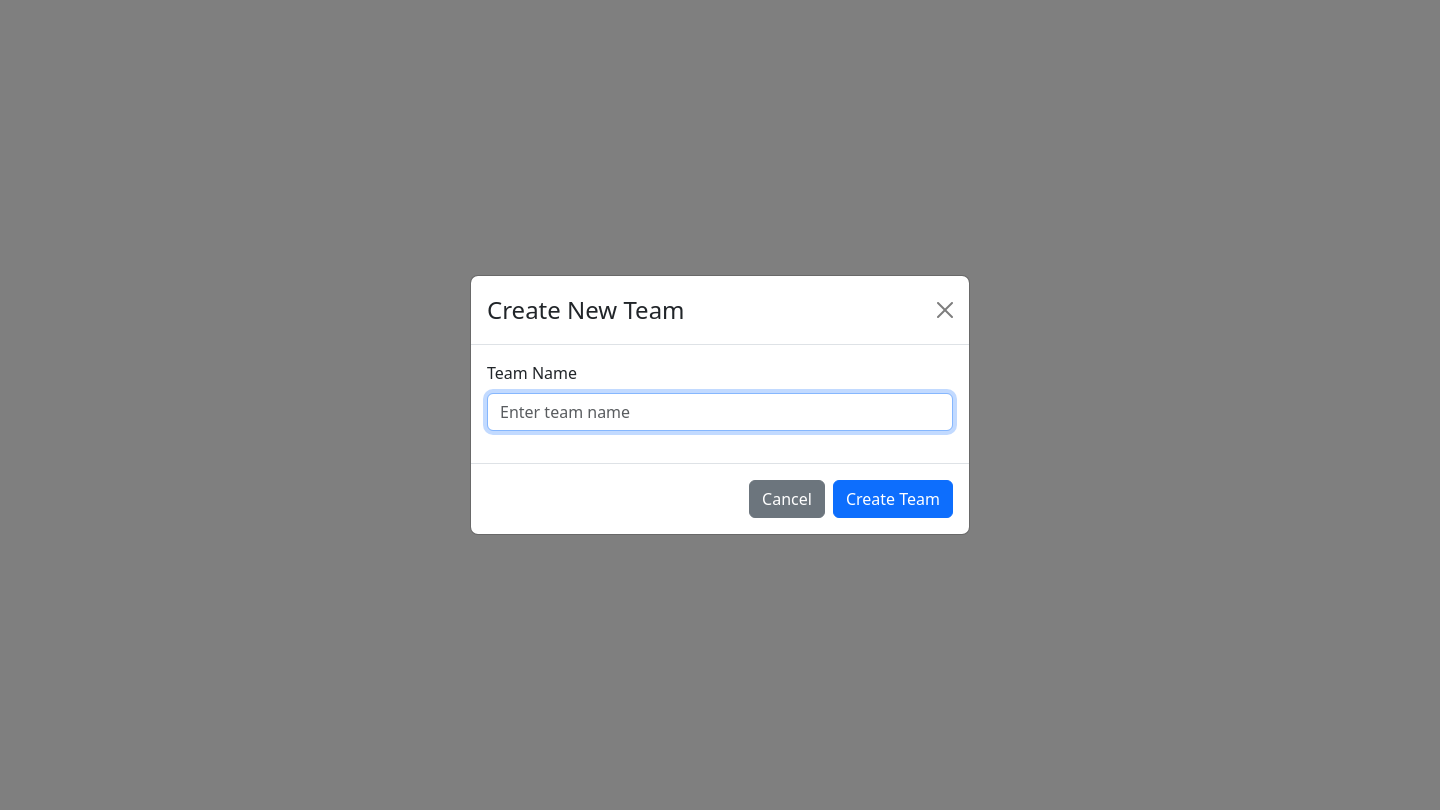
CreateTeamModal › should handle creation error
Type "New Team" into the field with placeholder "Enter team name".
click(720, 412); type("New Team")  # box [487,393,953,431]
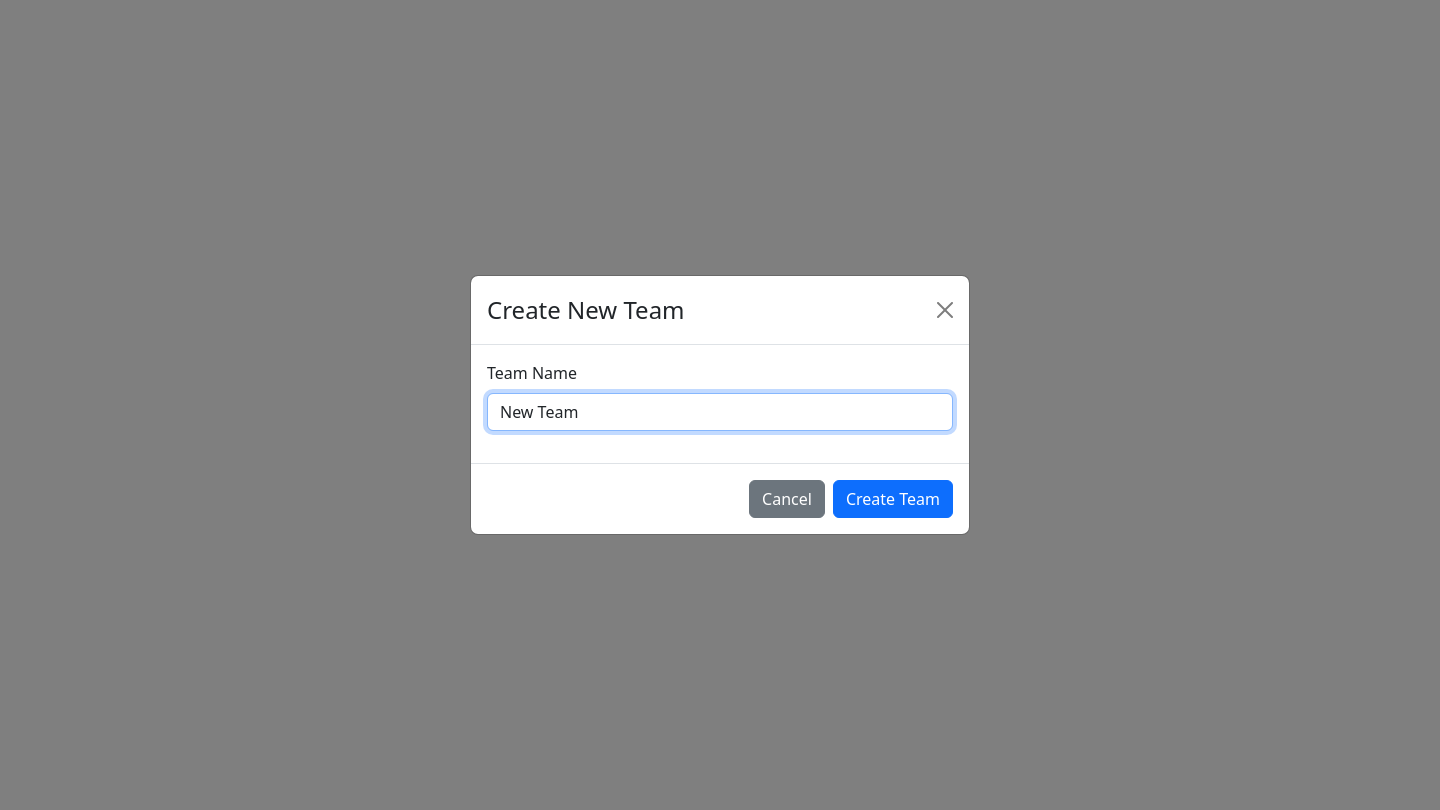
Click the button "Create Team".
click(893, 499)  # box [833,480,953,518]
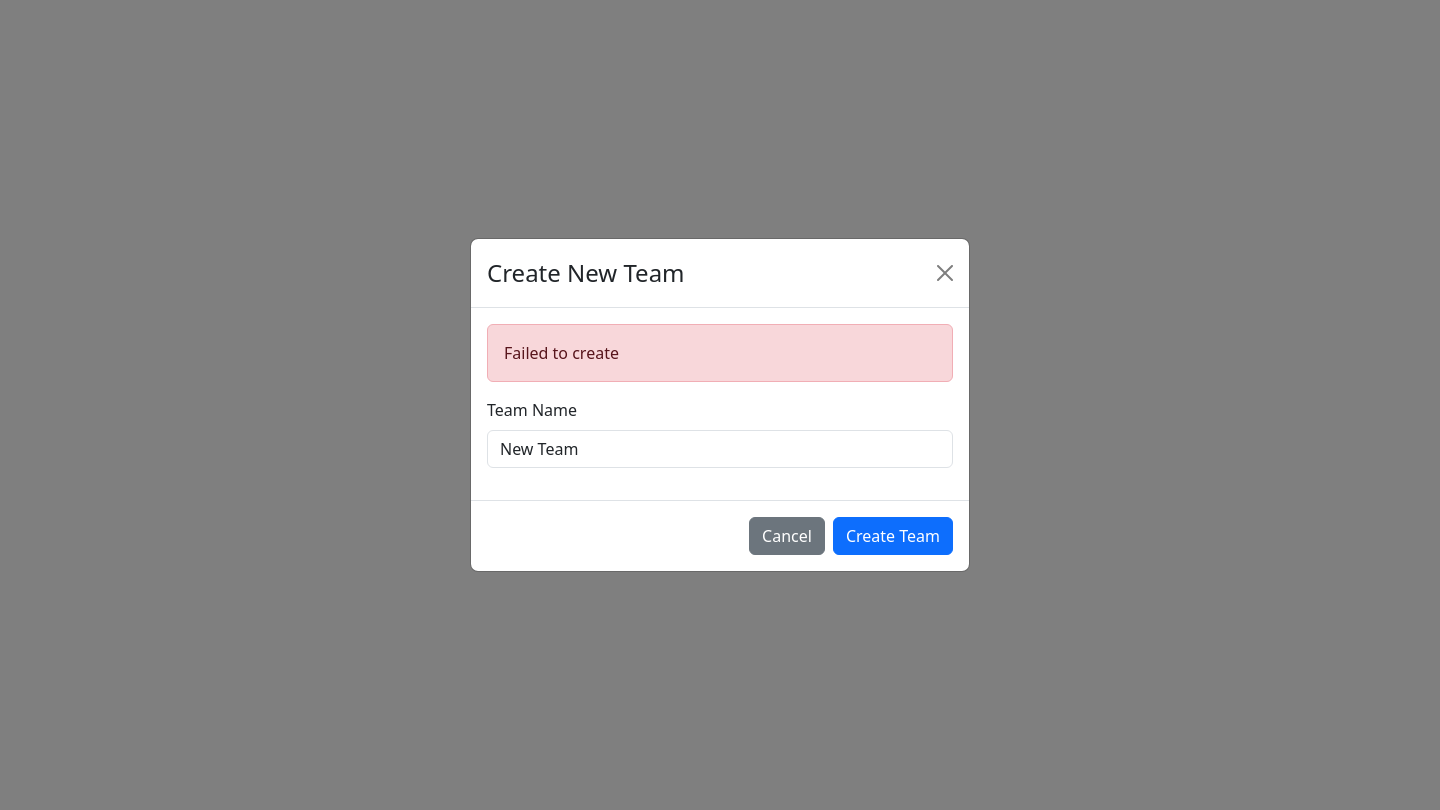
Check: the text "Failed to create" is shown, box [487,324,953,382]
